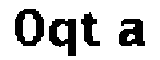0: (10, 4, 46, 50)
a: (111, 14, 149, 51)
q: (44, 14, 79, 60)
t: (77, 9, 105, 52)
